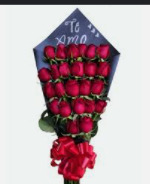RedRose: (82, 60, 100, 78), (62, 44, 79, 60), (58, 100, 73, 118), (72, 98, 86, 116), (93, 98, 107, 116), (96, 44, 112, 59), (71, 60, 84, 78), (68, 118, 81, 136), (81, 116, 94, 134), (64, 80, 79, 95), (58, 62, 71, 79), (78, 80, 91, 97), (99, 61, 111, 79), (91, 79, 103, 97), (84, 44, 98, 58), (53, 82, 68, 95), (42, 45, 54, 61), (83, 97, 93, 116), (37, 66, 49, 81), (49, 98, 61, 113), (42, 81, 53, 97), (57, 40, 65, 61), (47, 63, 58, 78), (77, 41, 85, 58)
